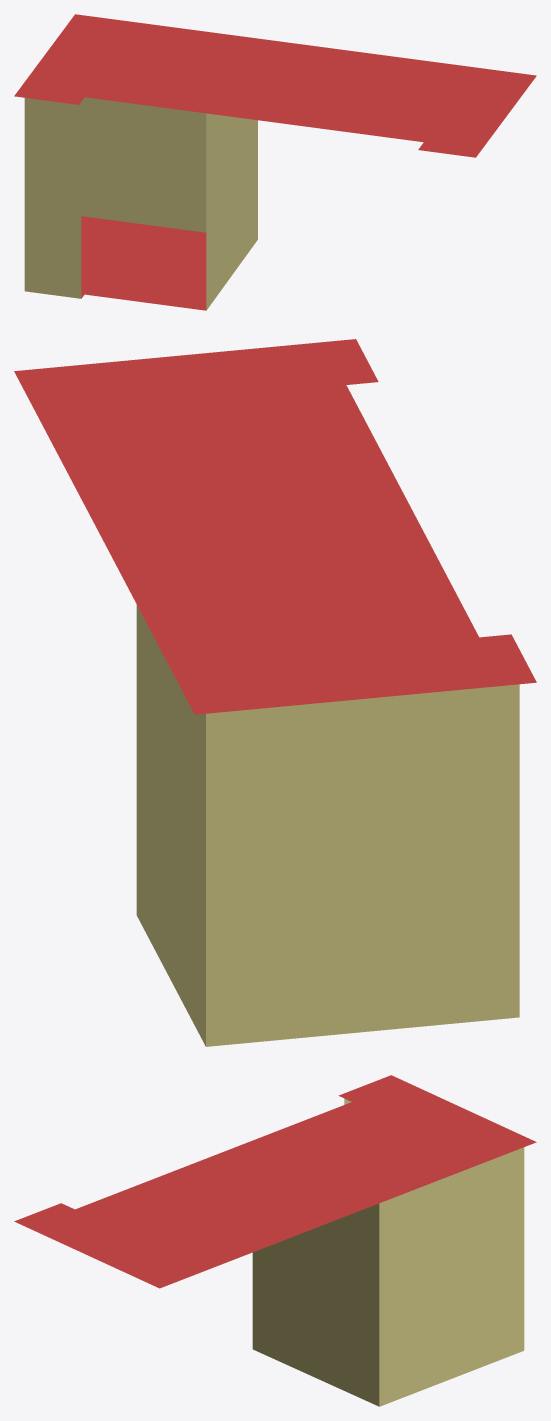
The picture shows the model from 3 angles, top to bottom: view 1: azimuth 30°, elevation 25°; view 2: azimuth 150°, elevation 25°; view 3: azimuth 270°, elevation 25°; orthographic projection. The views are drawn at different scales.
Size of the model in its own units: 14.12 by 14.62 by 6.44.
